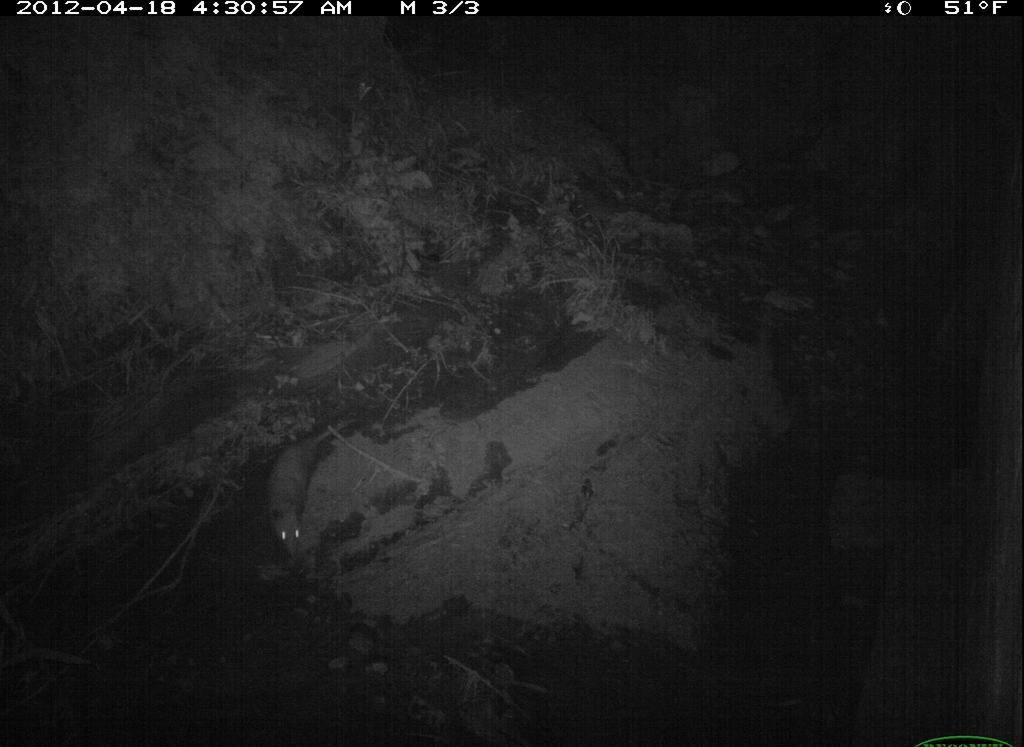opossum: (260, 413, 367, 570)
